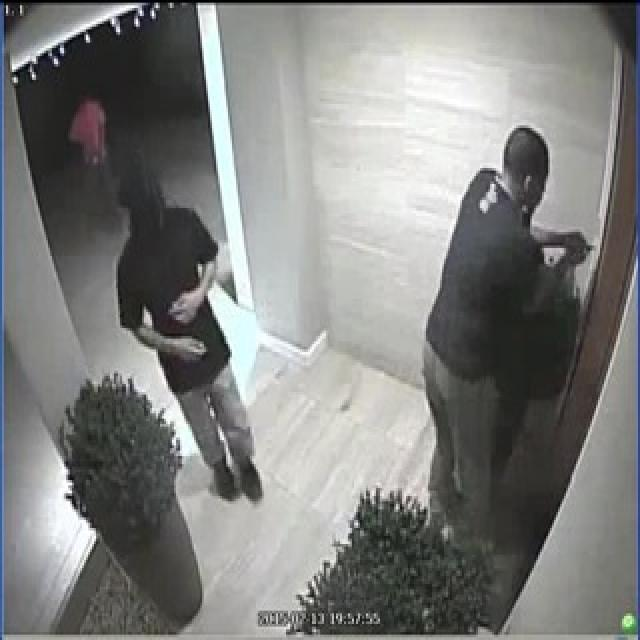burglary: (466, 126, 631, 433)
thief: (104, 165, 236, 382)
